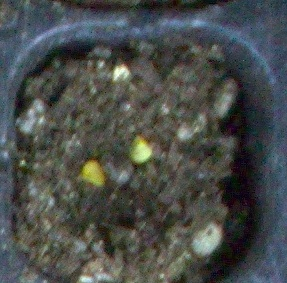chilli seed: (80, 159, 107, 187), (129, 135, 153, 165)
